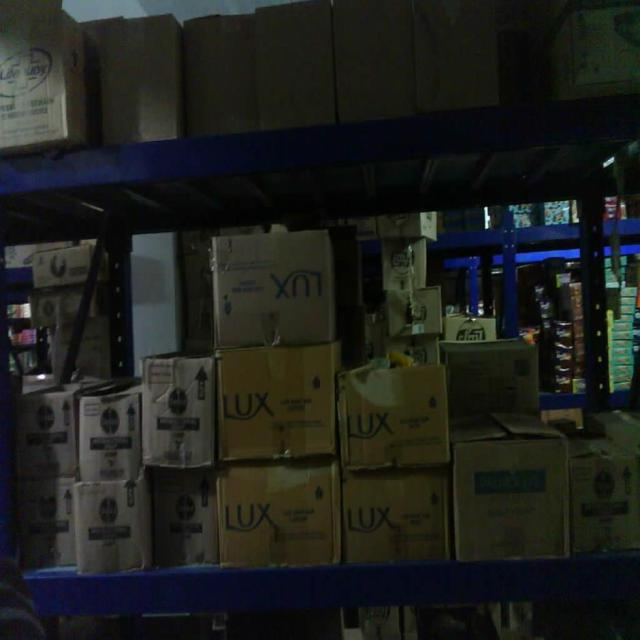box: (453, 435, 572, 562), (216, 344, 339, 462), (211, 230, 338, 344), (219, 462, 344, 564), (343, 360, 452, 467), (94, 14, 183, 142), (339, 469, 456, 563), (257, 3, 341, 130), (0, 0, 70, 146), (143, 350, 216, 471), (76, 481, 150, 573), (148, 472, 220, 566), (76, 394, 142, 480), (16, 478, 79, 568), (14, 392, 79, 478)
